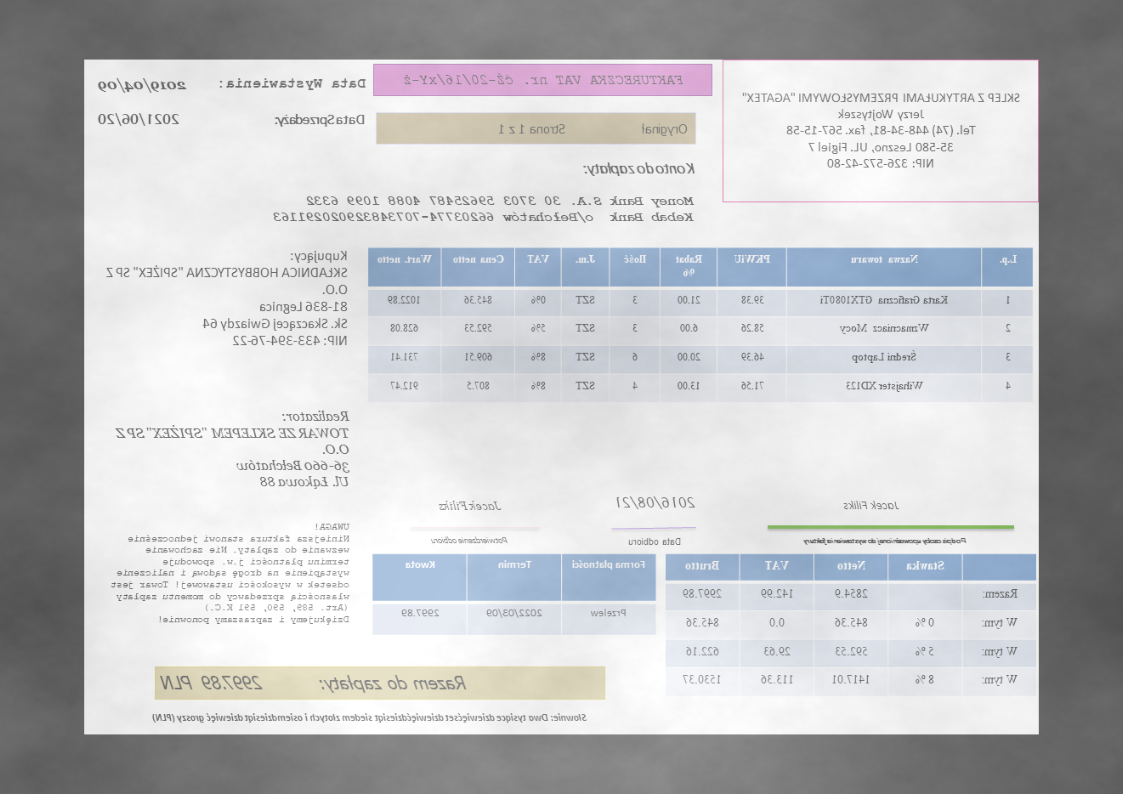Table: (366, 245, 1035, 404), (664, 552, 1038, 698), (371, 551, 658, 636)
TextBox: (101, 246, 351, 351), (108, 519, 353, 626), (740, 88, 1024, 172), (112, 407, 353, 491), (271, 192, 697, 225), (149, 709, 590, 727), (158, 671, 470, 694), (400, 71, 686, 88), (496, 119, 690, 139), (218, 74, 369, 92), (802, 533, 969, 549), (581, 157, 699, 179), (273, 110, 369, 130), (614, 492, 700, 513), (94, 77, 190, 95), (98, 110, 181, 129), (436, 496, 505, 514), (428, 533, 512, 547), (840, 496, 902, 513), (627, 535, 683, 547)
